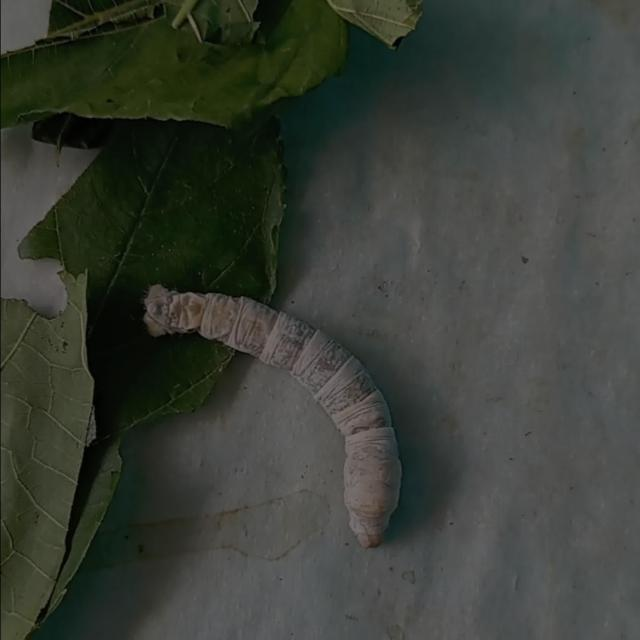Grasserie: (122, 260, 436, 556)
